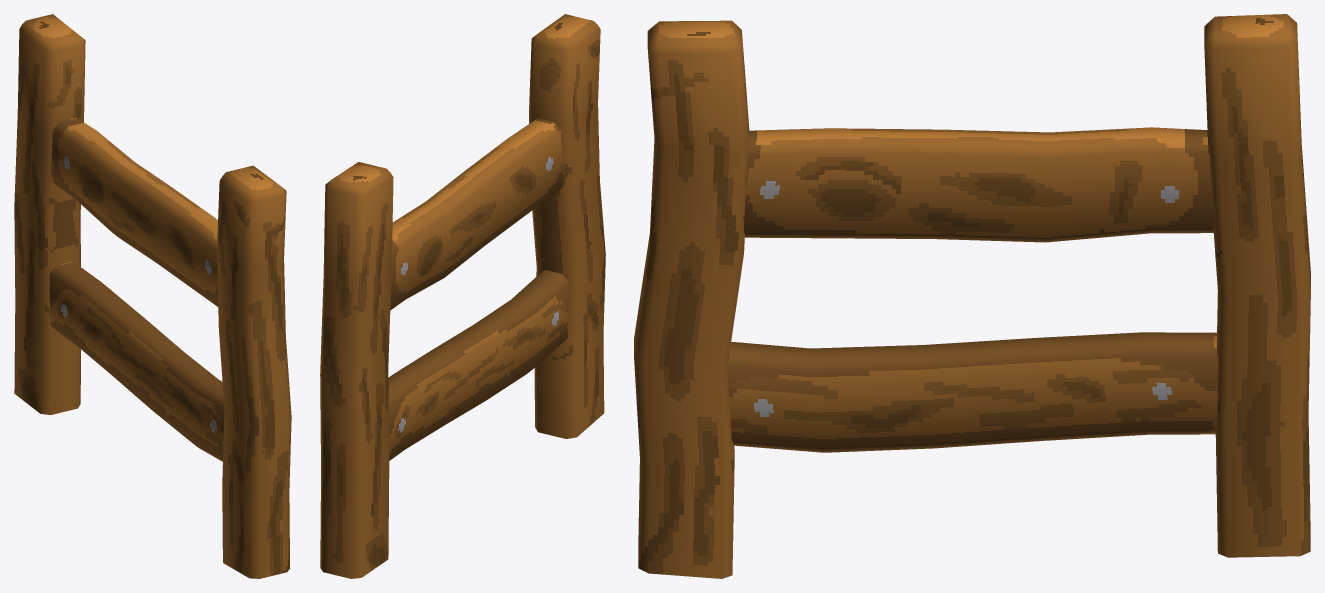
File: fence3.glb
3 views of the same model, side by side, from view 1: azimuth 30°, elevation 25°; view 2: azimuth 150°, elevation 25°; view 3: azimuth 270°, elevation 25° (orthographic). The views are drawn at different scales.
Visible parts, largest first — view 1: fence3; view 2: fence3; view 3: fence3.
Part boxes in pixels (x1=…): fence3: x1=14, y1=14, x2=291, y2=578; fence3: x1=320, y1=14, x2=605, y2=578; fence3: x1=634, y1=14, x2=1310, y2=578.
Size of the model in its own units: 0.2379 by 2.19 by 2.48.
Materials: 1 (1 with a texture image).
